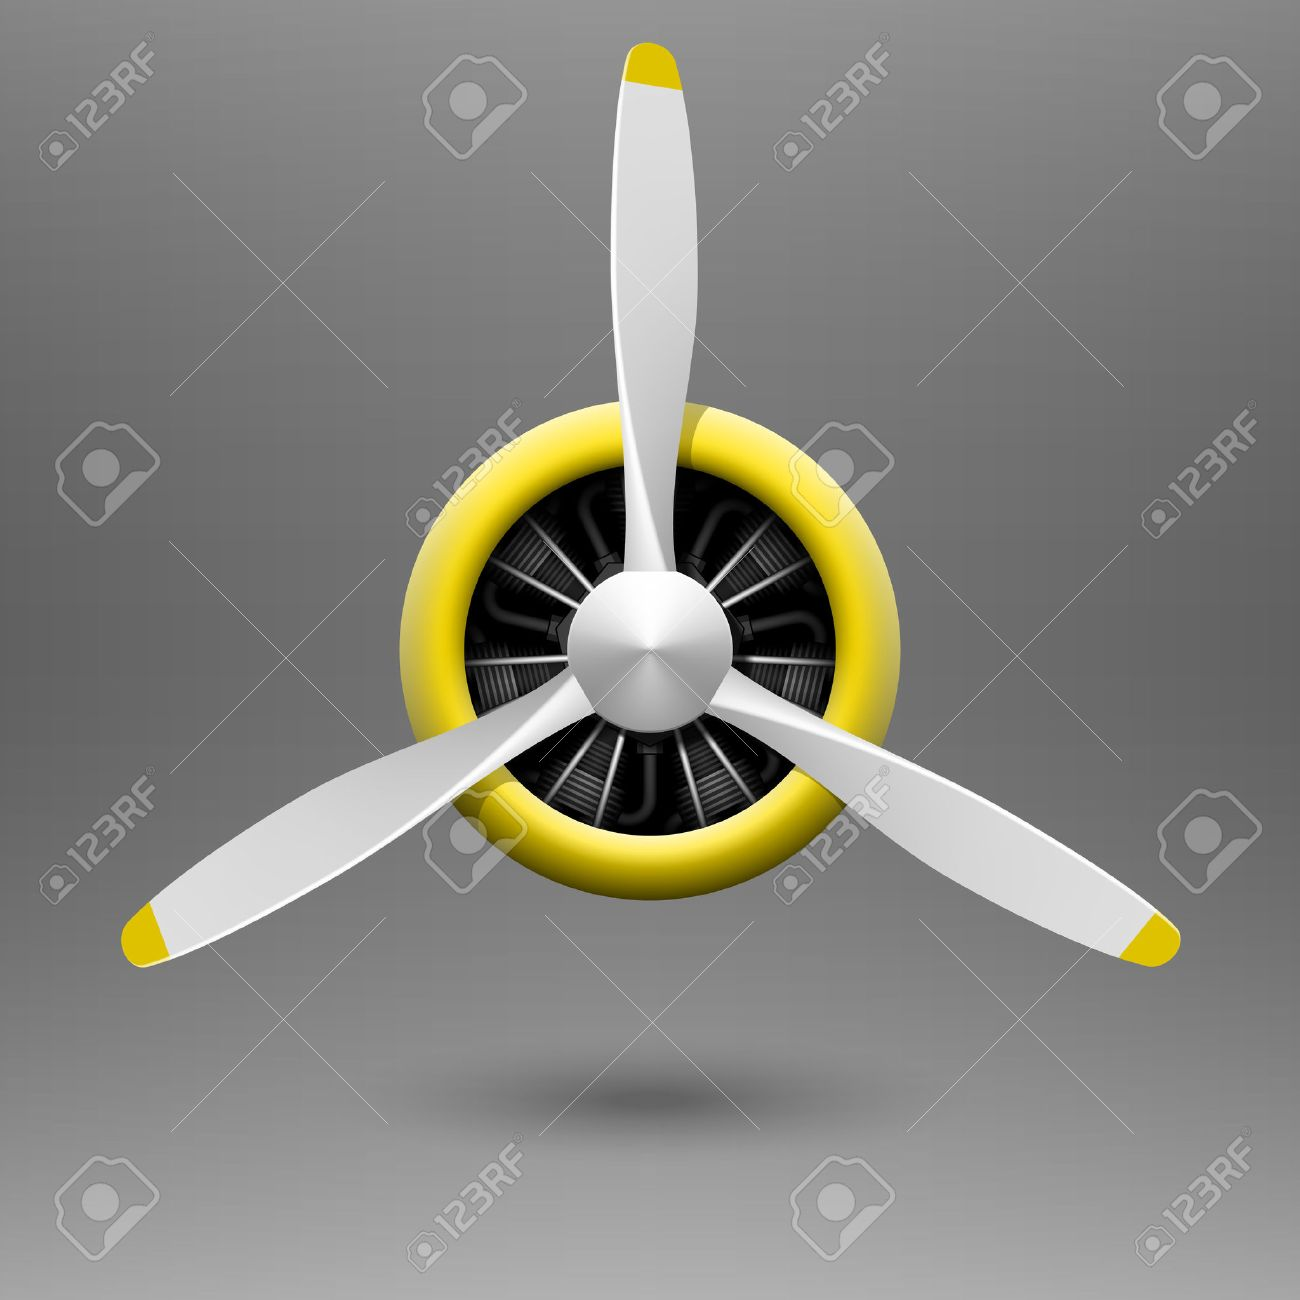Propeller: (119, 56, 1187, 1021)
